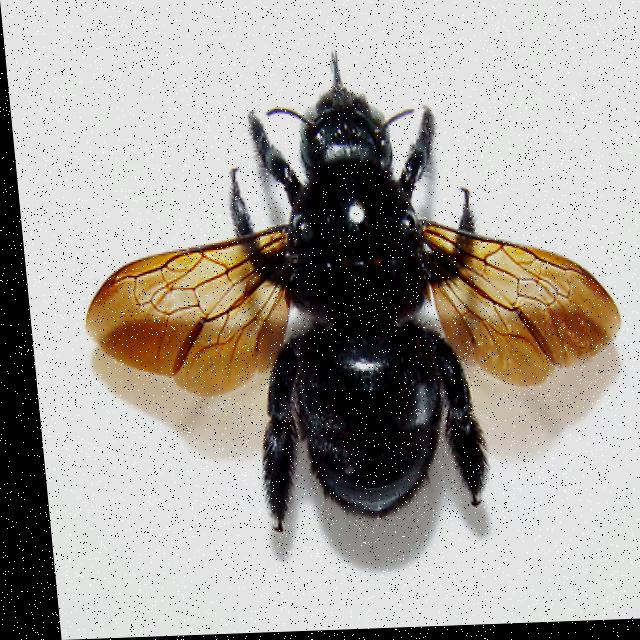Xylocopa: (55, 45, 630, 552)
